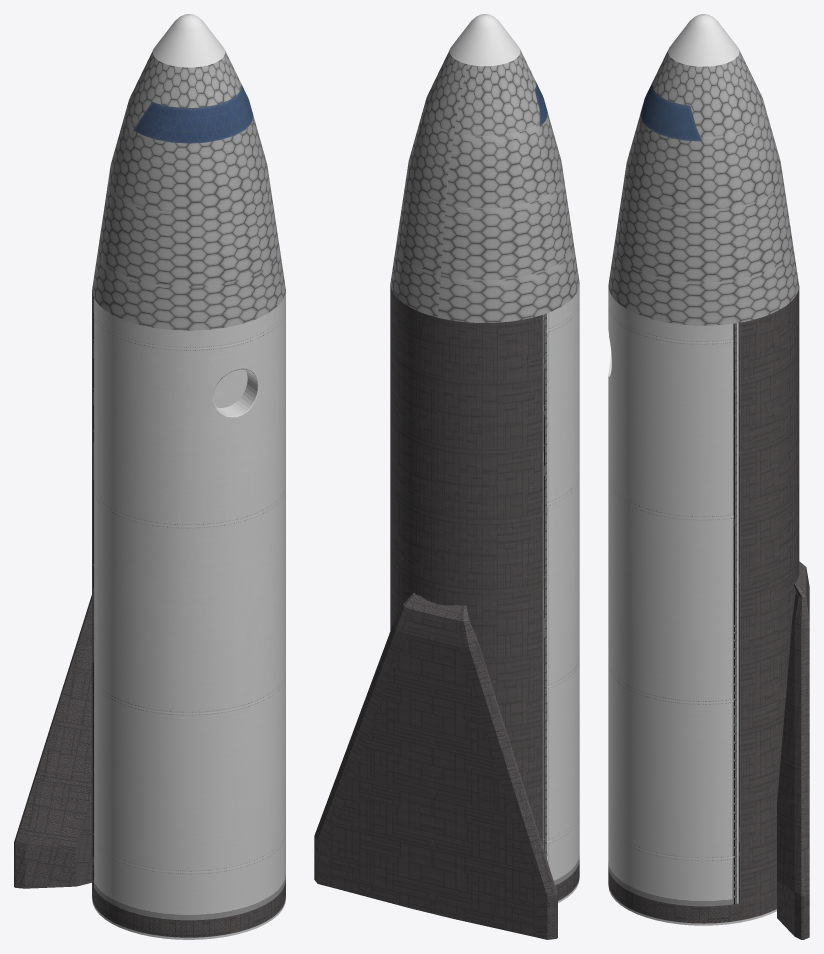
File: BFRIVA.fbx
3 renders of one model, left to right at view 1: azimuth 30°, elevation 25°; view 2: azimuth 150°, elevation 25°; view 3: azimuth 270°, elevation 25°, orthographic. The views are drawn at different scales.
Parts seen in each view (by area): view 1: Cylinder, body, fin, windows.001, Cylinder.006, nosecone, Cylinder.007; view 2: Cylinder.007, fin, body, Cylinder, nosecone; view 3: Cylinder, body, Cylinder.007, fin, nosecone, Cylinder.006, windows.001.
Boxes of the visible parts, bbox=[...] form: Cylinder: bbox=[92, 290, 285, 939]; body: bbox=[92, 50, 285, 330]; fin: bbox=[14, 595, 91, 888]; windows.001: bbox=[133, 83, 253, 143]; Cylinder.006: bbox=[93, 880, 285, 937]; nosecone: bbox=[152, 14, 225, 67]; Cylinder.007: bbox=[92, 290, 92, 900]; Cylinder.007: bbox=[390, 283, 542, 844]; fin: bbox=[314, 593, 557, 939]; body: bbox=[390, 50, 579, 322]; Cylinder: bbox=[542, 284, 579, 902]; nosecone: bbox=[449, 14, 520, 66]; Cylinder: bbox=[608, 286, 776, 925]; body: bbox=[608, 15, 798, 325]; Cylinder.007: bbox=[740, 286, 799, 920]; fin: bbox=[777, 561, 809, 939]; nosecone: bbox=[668, 14, 739, 66]; Cylinder.006: bbox=[608, 867, 740, 923]; windows.001: bbox=[640, 82, 701, 141].
Bounding box in the file's own units: 1160 × 3943 × 827.
